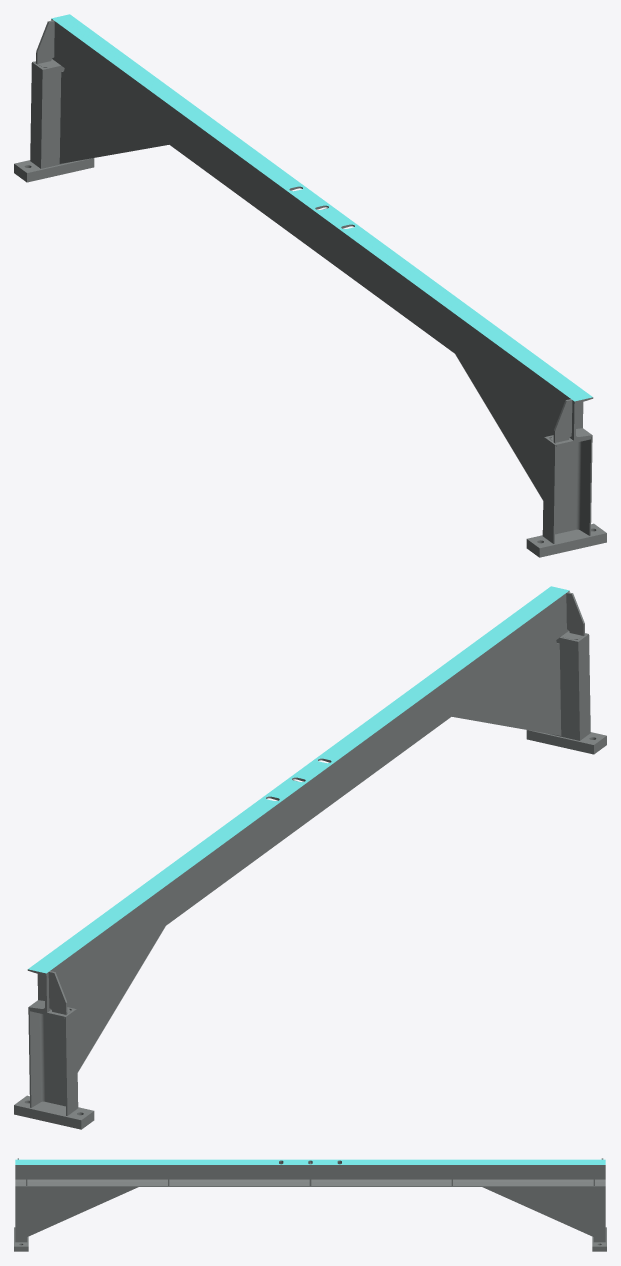
Rendered from assembly-10.glb.
3 views of the same model, one above another, from view 1: azimuth 30°, elevation 25°; view 2: azimuth 150°, elevation 25°; view 3: azimuth 270°, elevation 25° (orthographic). The views are drawn at different scales.
Visible parts, largest first — view 1: 螺運雞支撐架.-7; view 2: 螺運雞支撐架.-7; view 3: 螺運雞支撐架.-7.
Part boxes in pixels (box(x1,y1,x2,y2)): 螺運雞支撐架.-7: box(14, 14, 606, 557); 螺運雞支撐架.-7: box(14, 586, 606, 1129); 螺運雞支撐架.-7: box(14, 1158, 606, 1251).
Bounding box in the file's own units: 0.1804 × 0.3778 × 2.43.
